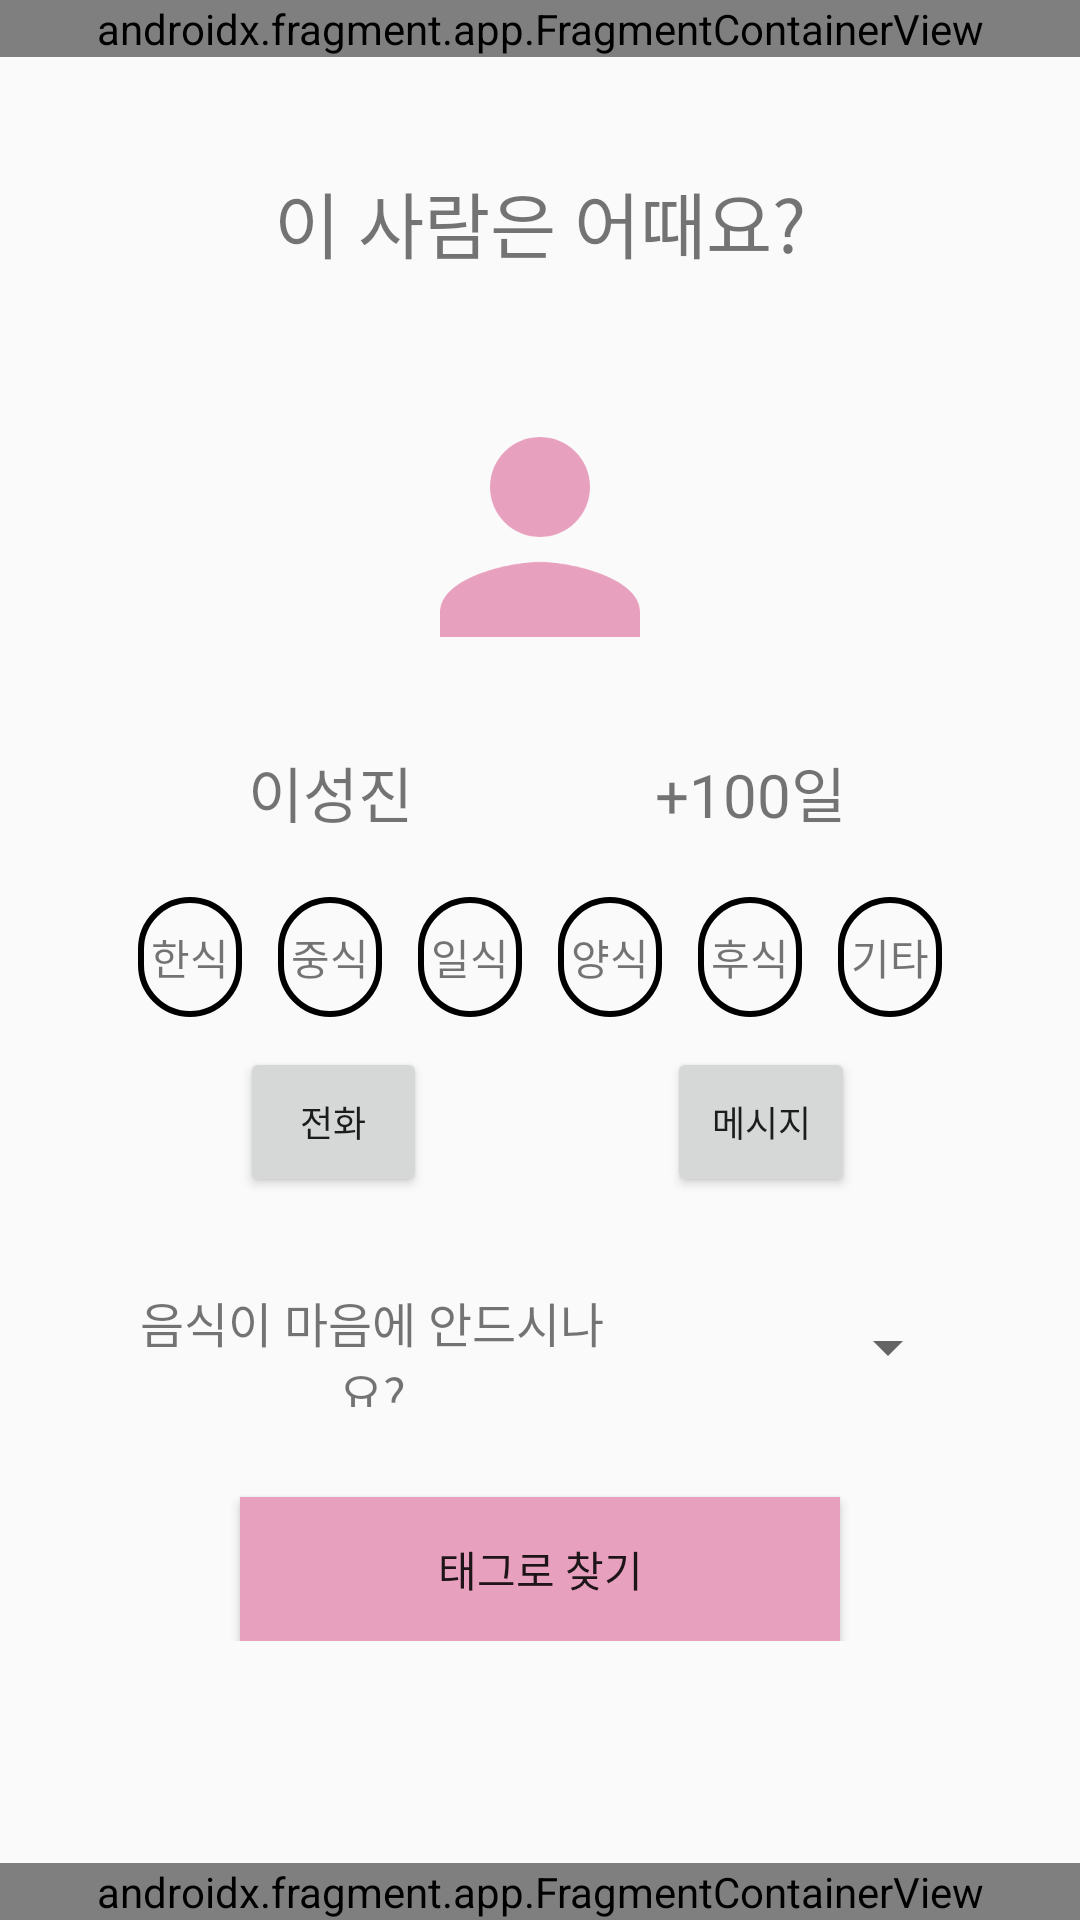

Locate icon controls on the screen. Image size 1080px×1920px, boxes as (x1, y1, x2, y2).
person: (440, 437, 640, 637)
